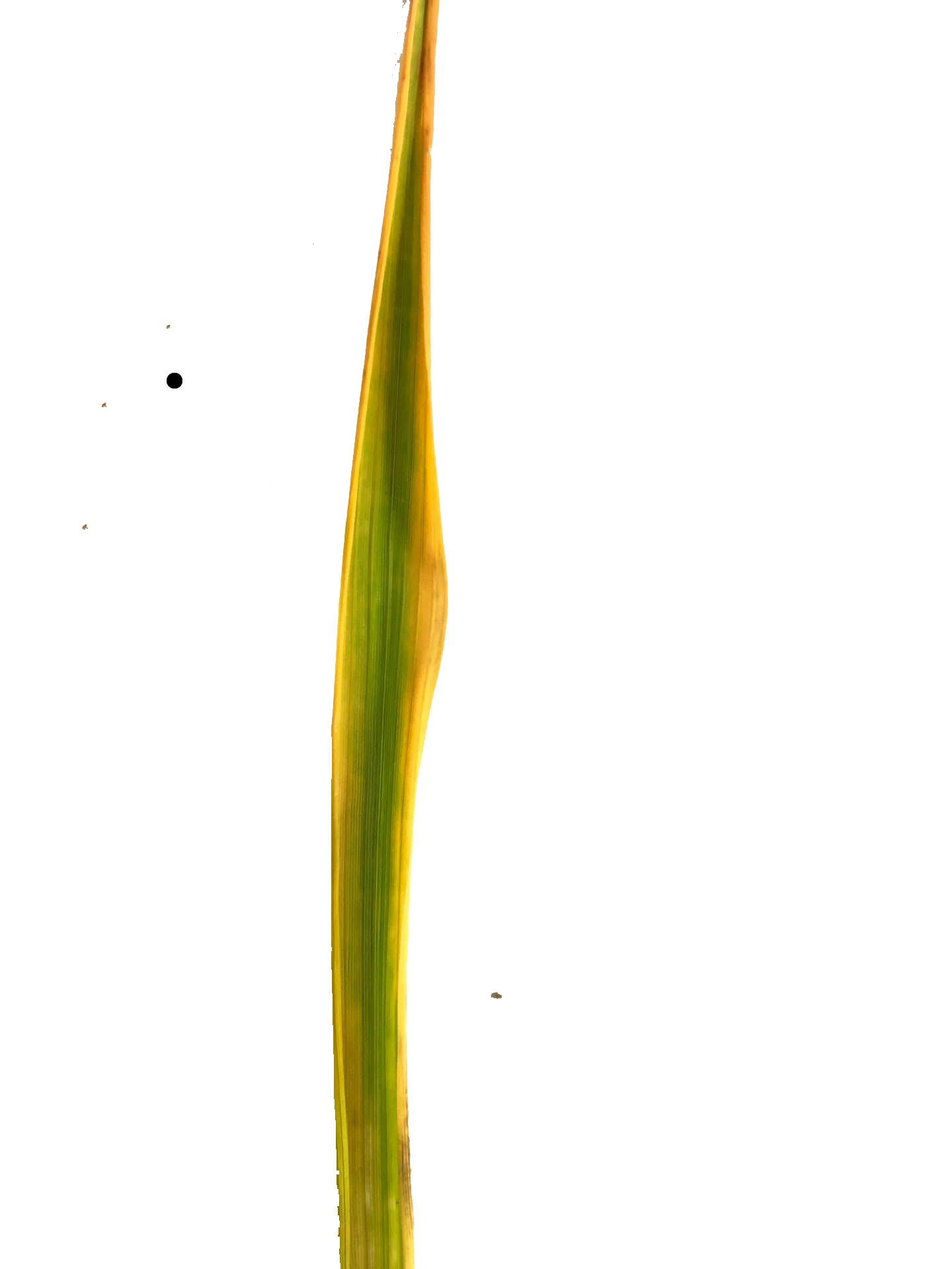Tungro: (329, 0, 450, 1269)
